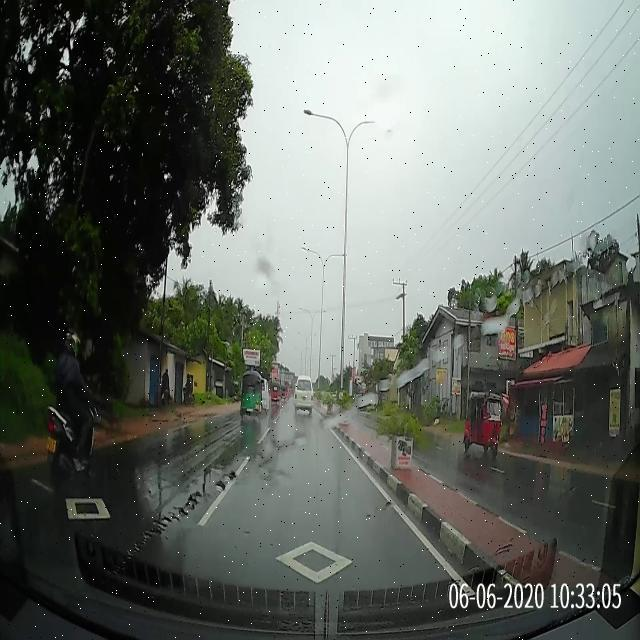diamond: (165, 528, 464, 583)
